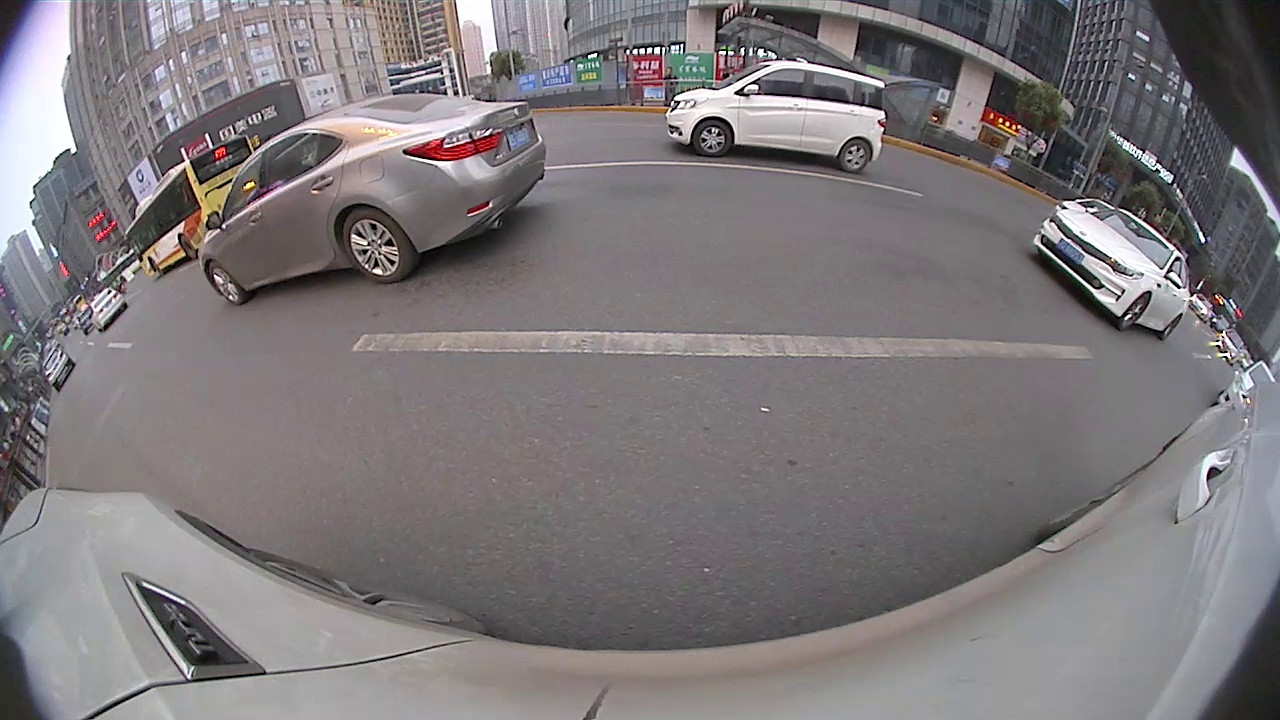bus: (123, 133, 260, 282)
car: (198, 92, 547, 302), (662, 63, 889, 178), (1031, 200, 1198, 342), (83, 286, 131, 333)
front: (204, 258, 246, 307), (691, 118, 734, 158), (1115, 291, 1150, 332)
rear: (341, 208, 420, 286), (838, 136, 874, 175), (177, 233, 199, 263)
